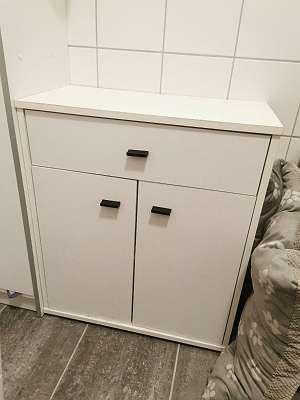cabinet_door: (137, 190, 248, 342), (28, 130, 263, 188), (39, 181, 134, 323)
handle: (124, 144, 154, 163), (148, 202, 174, 222), (98, 195, 125, 213)
